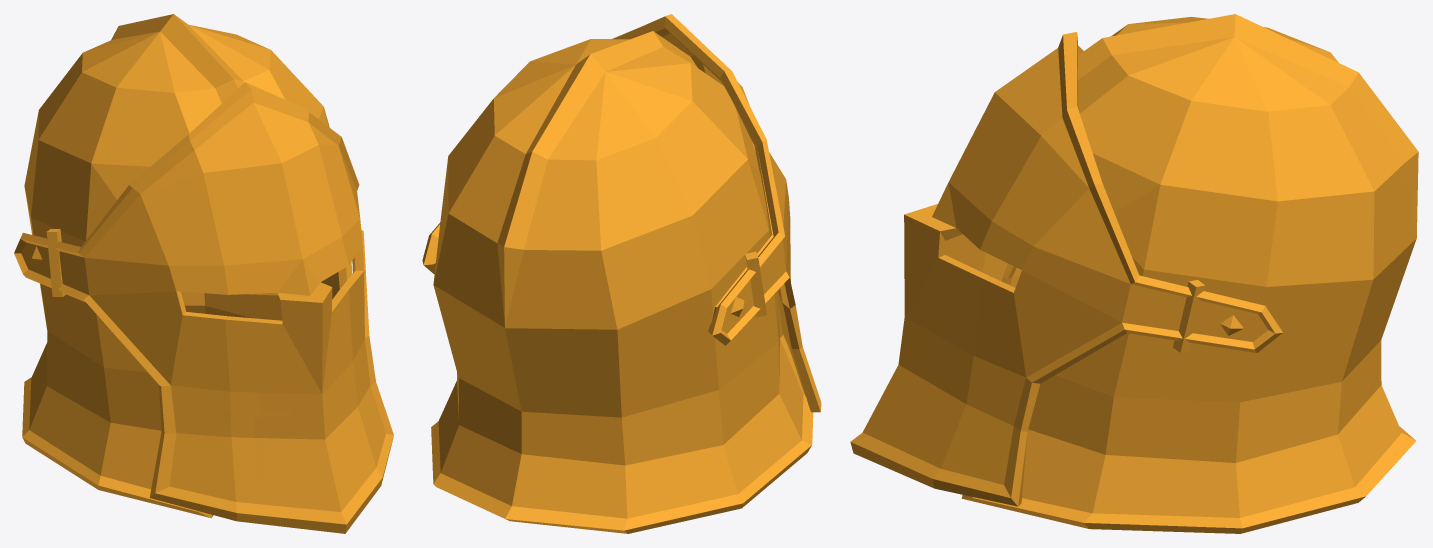
The model's file is SM_Helmet_Barbuta_Visored_Placed.fbx.
The picture shows the model from 3 angles, left to right: view 1: azimuth 30°, elevation 25°; view 2: azimuth 150°, elevation 25°; view 3: azimuth 270°, elevation 25°; orthographic projection. The views are drawn at different scales.
Parts seen in each view (by area): view 1: helmet-barbuta-visored-visor-placed, helmet-barbuta-visored-helmet-placed; view 2: helmet-barbuta-visored-helmet-placed, helmet-barbuta-visored-visor-placed; view 3: helmet-barbuta-visored-helmet-placed, helmet-barbuta-visored-visor-placed.
Part boxes in pixels (x1,y1,x2,y2): helmet-barbuta-visored-visor-placed: [14, 82, 393, 533]; helmet-barbuta-visored-helmet-placed: [22, 14, 352, 518]; helmet-barbuta-visored-helmet-placed: [431, 31, 813, 533]; helmet-barbuta-visored-visor-placed: [422, 14, 821, 412]; helmet-barbuta-visored-helmet-placed: [961, 14, 1418, 533]; helmet-barbuta-visored-visor-placed: [850, 32, 1282, 506].
Size of the model in its own units: 0.2153 by 0.2736 by 0.32.
